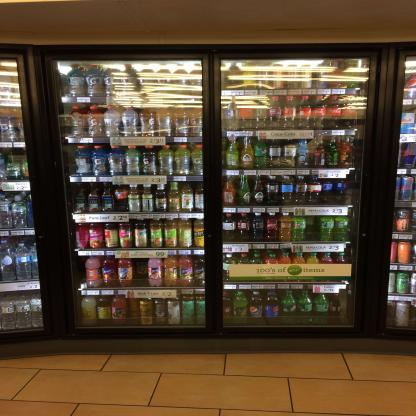empty_space: (132, 259, 148, 289), (308, 214, 323, 242)
